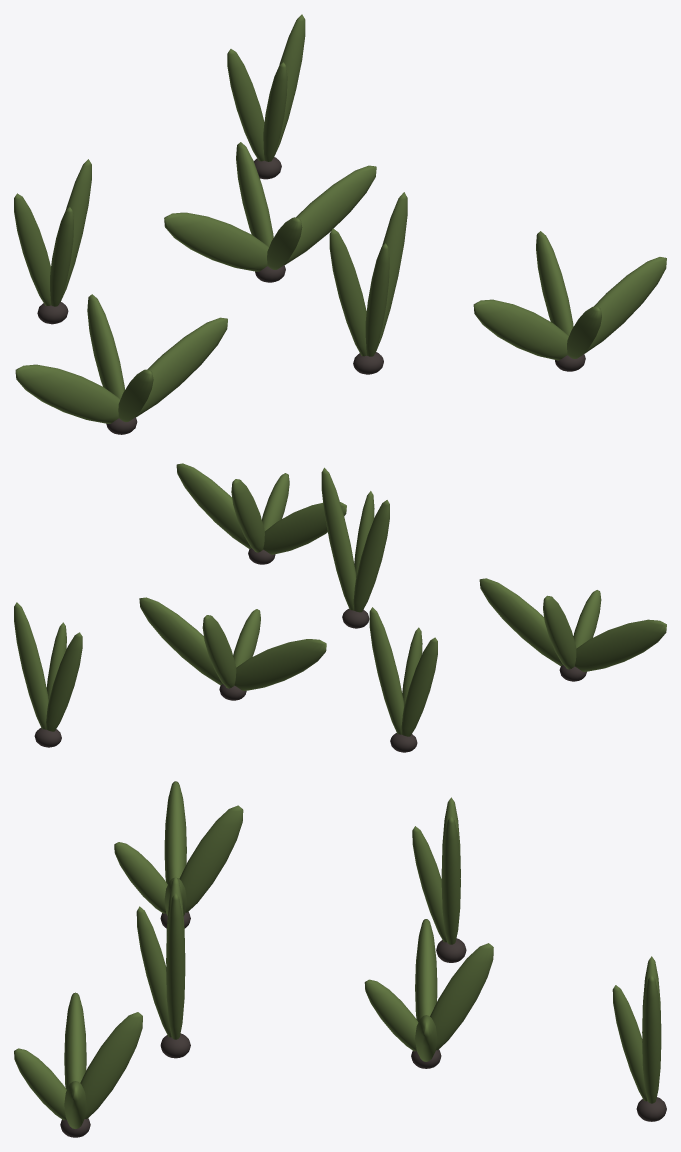
File: CMU3DRMCGrassb3.glb
3 views of the same model, one above another, from view 1: azimuth 30°, elevation 25°; view 2: azimuth 150°, elevation 25°; view 3: azimuth 270°, elevation 25° (orthographic). The views are drawn at different scales.
Parts seen in each view (by area): view 1: tuft 3 continuous leaf 0, tuft 1 continuous leaf 0, tuft 5 continuous leaf 0, tuft 1 continuous leaf 1, tuft 3 continuous leaf 1, tuft 5 continuous leaf 1, tuft 4 continuous leaf 0, tuft 2 continuous leaf 0, tuft 0 continuous leaf 0, tuft 1 continuous leaf 2, tuft 3 continuous leaf 2, tuft 5 continuous leaf 2 (+9 smaller); view 2: tuft 1 continuous leaf 0, tuft 3 continuous leaf 0, tuft 3 continuous leaf 1, tuft 1 continuous leaf 1, tuft 4 continuous leaf 1, tuft 5 continuous leaf 1, tuft 5 continuous leaf 0, tuft 0 continuous leaf 1, tuft 2 continuous leaf 1, tuft 4 continuous leaf 0, tuft 2 continuous leaf 0, tuft 0 continuous leaf 0 (+9 smaller); view 3: tuft 3 continuous leaf 2, tuft 1 continuous leaf 2, tuft 5 continuous leaf 2, tuft 4 continuous leaf 1, tuft 2 continuous leaf 1, tuft 0 continuous leaf 1, tuft 4 continuous leaf 2, tuft 3 continuous leaf 0, tuft 1 continuous leaf 0, tuft 3 continuous leaf 3, tuft 1 continuous leaf 3, tuft 5 continuous leaf 3 (+8 smaller).
Part boxes in pixels (x1,y1,x2,y2): tuft 3 continuous leaf 0: (164,212,268,271); tuft 1 continuous leaf 0: (15,364,120,423); tuft 5 continuous leaf 0: (473,299,568,360); tuft 1 continuous leaf 1: (135,317,227,417); tuft 3 continuous leaf 1: (284,165,376,265); tuft 5 continuous leaf 1: (584,257,666,353); tuft 4 continuous leaf 0: (329,228,366,356); tuft 2 continuous leaf 0: (227,49,264,161); tuft 0 continuous leaf 0: (14,193,51,305); tuft 1 continuous leaf 2: (87,294,124,399); tuft 3 continuous leaf 2: (236,142,273,246); tuft 5 continuous leaf 2: (536,231,573,335); tuft 1 continuous leaf 0: (575,619,666,671); tuft 3 continuous leaf 0: (234,639,326,690); tuft 3 continuous leaf 1: (139,597,222,685); tuft 1 continuous leaf 1: (479,578,562,666); tuft 4 continuous leaf 1: (321,467,356,610); tuft 5 continuous leaf 1: (176,463,251,548); tuft 5 continuous leaf 0: (263,502,346,554); tuft 0 continuous leaf 1: (369,607,404,734); tuft 2 continuous leaf 1: (14,602,48,729); tuft 4 continuous leaf 0: (353,500,389,612); tuft 2 continuous leaf 0: (46,632,82,731); tuft 0 continuous leaf 0: (401,637,437,736); tuft 3 continuous leaf 2: (430,943,493,1050); tuft 1 continuous leaf 2: (179,805,243,912); tuft 5 continuous leaf 2: (80,1012,142,1119); tuft 4 continuous leaf 1: (166,893,185,1039); tuft 2 continuous leaf 1: (642,975,661,1103); tuft 0 continuous leaf 1: (441,816,460,944); tuft 4 continuous leaf 2: (136,906,171,1037); tuft 3 continuous leaf 0: (415,919,437,1022); tuft 1 continuous leaf 0: (164,781,186,884); tuft 3 continuous leaf 3: (364,979,418,1051); tuft 1 continuous leaf 3: (114,842,167,913); tuft 5 continuous leaf 3: (14,1048,66,1120).
Size of the model in its own units: 0.9178 by 0.2506 by 0.8145.
